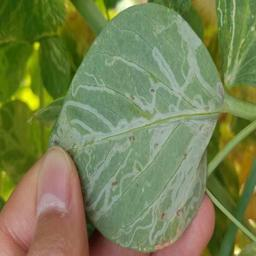liriomyza: (46, 2, 224, 252)
